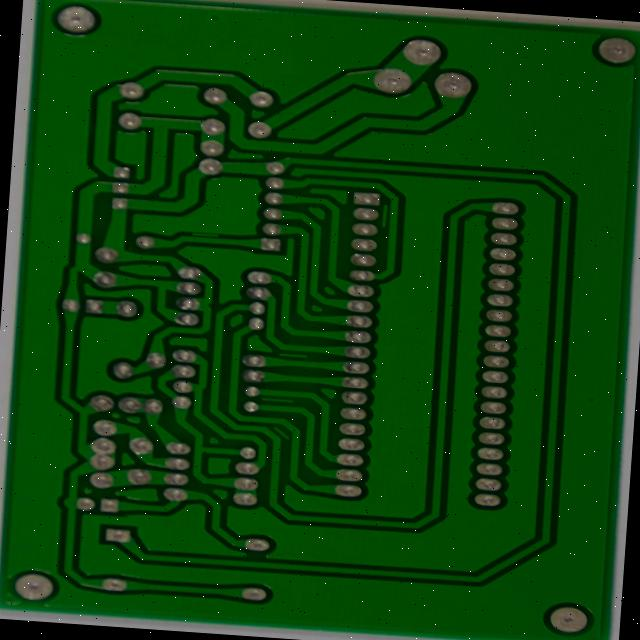spurious_copper: (223, 251, 275, 271), (314, 435, 366, 452), (337, 386, 385, 404), (331, 469, 367, 492), (464, 225, 485, 260)
